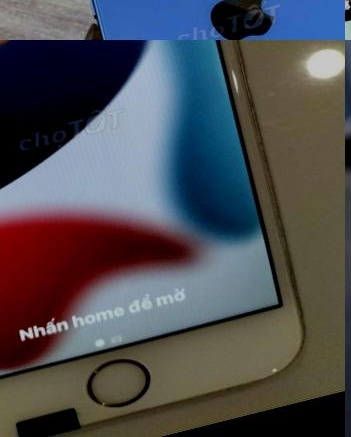scratch: (212, 40, 320, 359)
